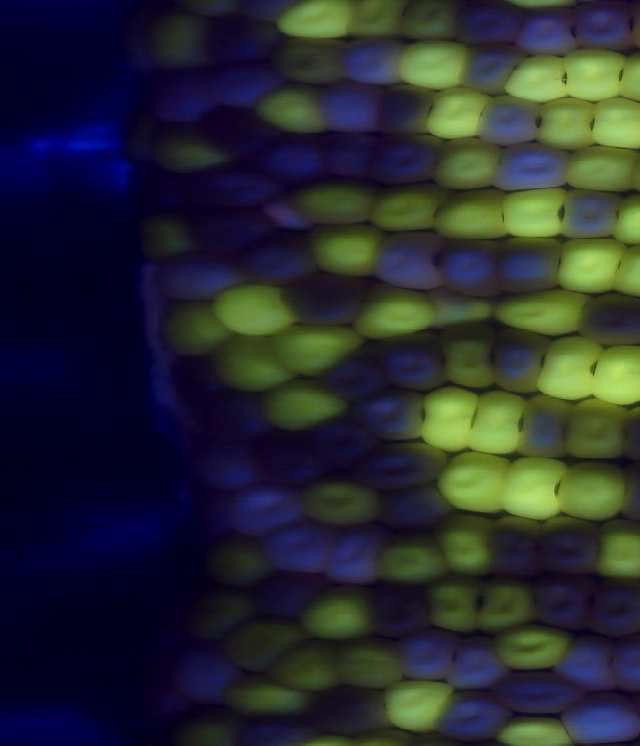fluorescent: (492, 283, 589, 340), (268, 322, 366, 378), (208, 336, 301, 395), (428, 186, 521, 243), (436, 451, 513, 519), (500, 454, 568, 531), (354, 280, 441, 340), (216, 618, 312, 672), (300, 580, 379, 642), (531, 333, 603, 401), (206, 285, 295, 340), (260, 381, 353, 433), (141, 8, 211, 77), (430, 510, 498, 581), (497, 183, 574, 245), (376, 679, 461, 734), (299, 224, 388, 276), (291, 182, 387, 229), (423, 83, 495, 145), (217, 673, 316, 718), (398, 37, 480, 91), (266, 640, 345, 696), (417, 383, 482, 451), (553, 460, 625, 521), (503, 51, 579, 108), (367, 183, 456, 231), (555, 239, 627, 298), (374, 533, 453, 586), (564, 402, 632, 463), (559, 46, 628, 105), (330, 639, 405, 693), (279, 35, 354, 88), (470, 388, 530, 453), (158, 300, 233, 352), (537, 91, 603, 150), (491, 621, 572, 669), (435, 140, 507, 193), (564, 147, 640, 197), (423, 576, 486, 636), (179, 584, 256, 633), (259, 83, 330, 136), (161, 121, 228, 175), (201, 536, 275, 584), (473, 574, 533, 632), (275, 1, 365, 39), (440, 323, 495, 385), (300, 482, 379, 525), (591, 344, 640, 411), (590, 89, 640, 152), (495, 712, 586, 746), (426, 283, 496, 327), (133, 212, 191, 262), (598, 519, 640, 582), (178, 710, 250, 746), (401, 1, 461, 43), (352, 1, 411, 43), (610, 187, 640, 252), (608, 243, 640, 300)
nonfluorescent: (304, 684, 410, 742), (151, 247, 249, 302), (189, 166, 286, 215), (533, 518, 609, 580), (223, 487, 313, 539), (200, 379, 275, 441), (351, 441, 444, 491), (485, 145, 574, 197), (246, 230, 324, 288), (365, 581, 436, 644), (264, 516, 343, 572), (559, 641, 630, 703), (194, 434, 266, 495), (325, 523, 392, 587), (491, 242, 567, 298), (174, 642, 246, 701), (351, 394, 428, 449), (251, 129, 326, 184), (496, 671, 583, 718), (377, 233, 448, 290), (259, 438, 331, 493), (486, 513, 546, 579), (249, 574, 331, 622), (291, 276, 371, 325), (562, 696, 640, 746), (146, 72, 220, 124), (331, 33, 402, 87), (558, 188, 629, 242), (531, 573, 599, 629), (518, 399, 578, 462), (442, 693, 513, 746), (584, 573, 640, 640), (484, 326, 543, 389), (206, 63, 285, 110), (396, 628, 460, 686), (311, 129, 379, 182), (322, 349, 390, 402), (372, 489, 457, 531), (300, 420, 378, 465), (570, 1, 640, 51), (476, 98, 546, 148), (445, 634, 506, 691), (201, 18, 285, 59), (451, 1, 529, 45), (323, 78, 386, 131), (364, 135, 438, 180), (188, 213, 275, 251), (378, 340, 448, 387), (459, 47, 525, 96), (176, 347, 230, 406), (580, 293, 640, 346), (132, 170, 198, 218), (521, 13, 582, 64), (209, 113, 275, 160), (437, 238, 490, 294), (382, 80, 438, 131), (237, 715, 307, 746), (605, 630, 640, 685)
